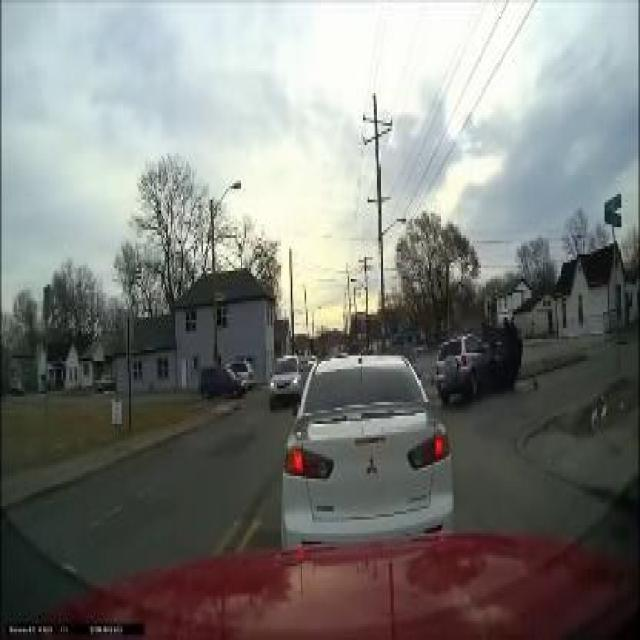accident: (430, 301, 524, 405)
